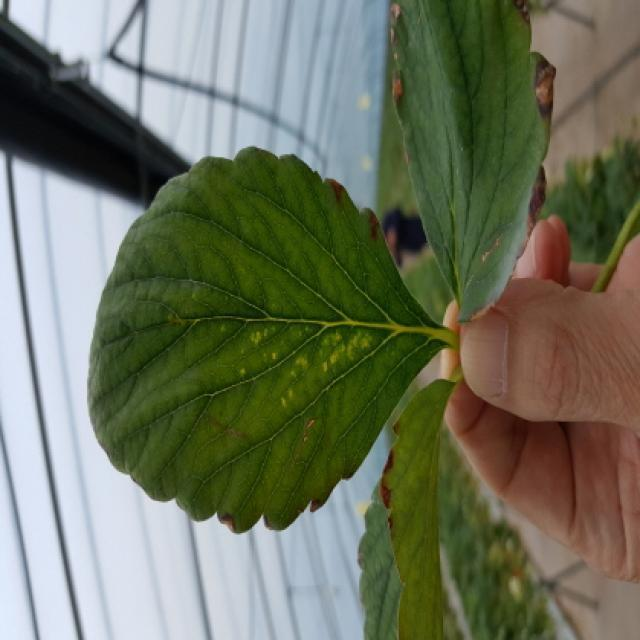Angular Leafspot: (189, 282, 392, 444)
